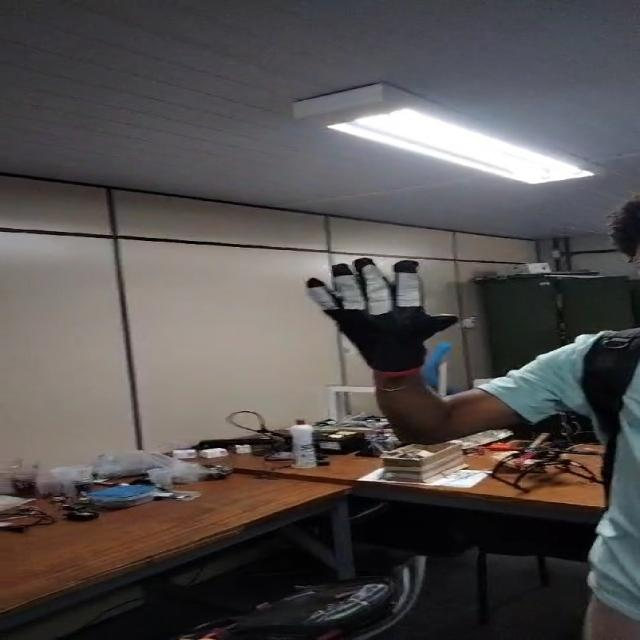Gloves: (301, 258, 462, 373)
